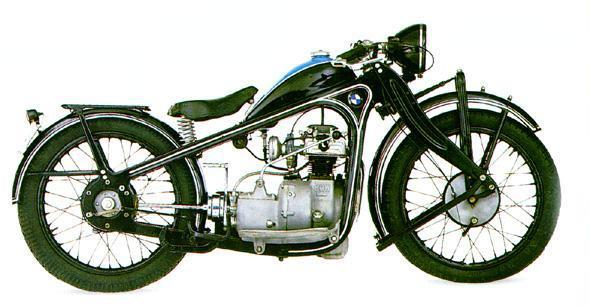motorcycle: (1, 1, 575, 297)
